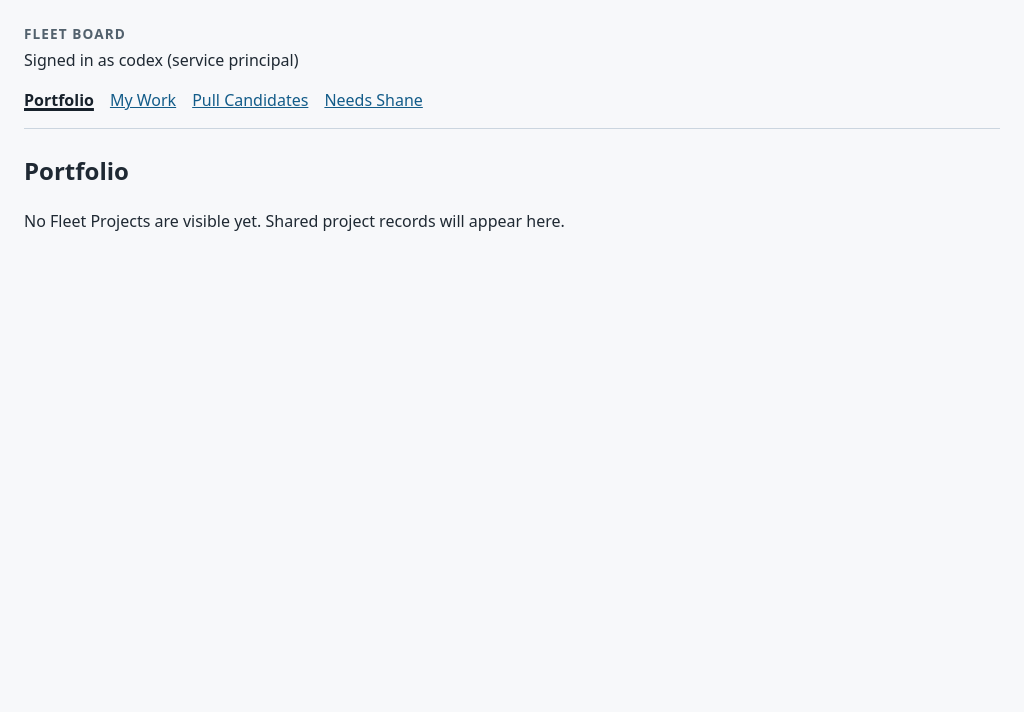
Scenario: Needs Shane Board actions › creates a specific source-linked ask with an explicit resolution condition
The image size is (1024, 712).
Check: the text "Signed in as codex (service principal)" is shown, box [24,49,298,71]
Click the link "Needs Shane".
click(374, 100)  # box [324,88,423,112]
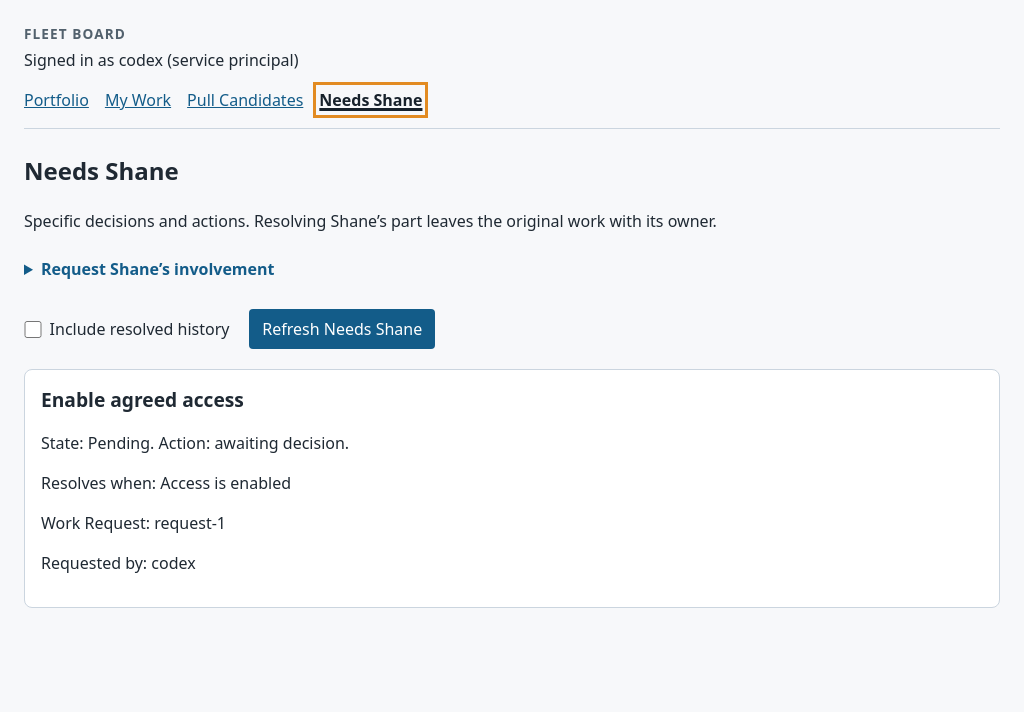
Click the heading "Request Shane’s involvement".
click(158, 269)  # box [41,258,274,280]
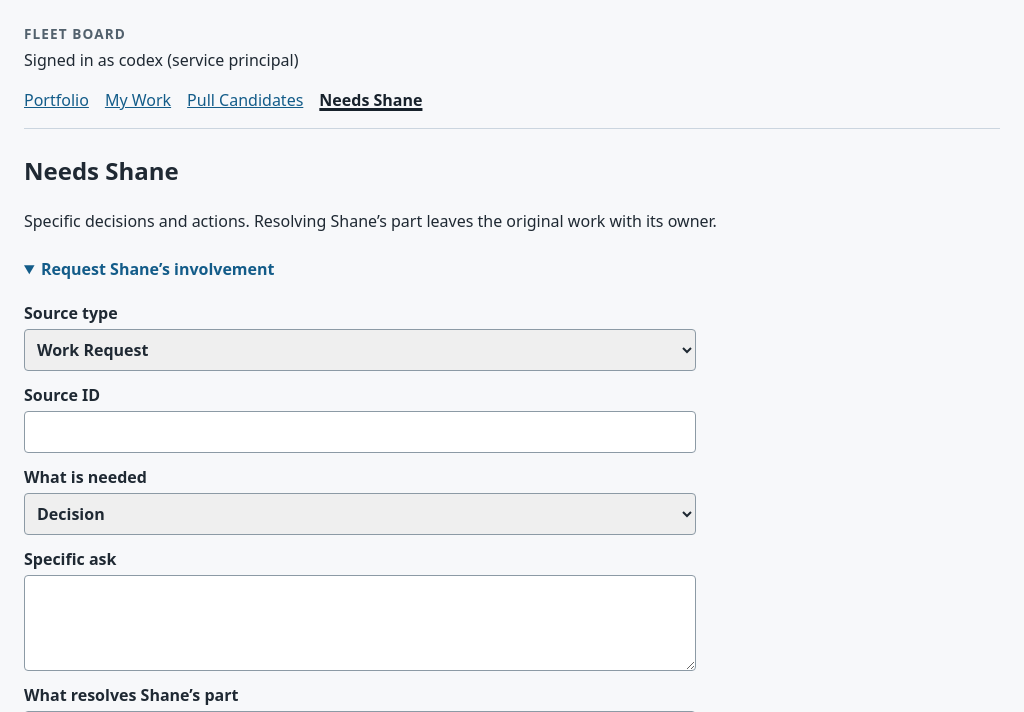
Type "standalone-request" into the field labelled "Source ID".
click(360, 432); type("standalone-request")  # box [24,411,696,453]
Select "Action" in the dropdown labelled "What is needed" at (360, 514), box [24,493,696,535]
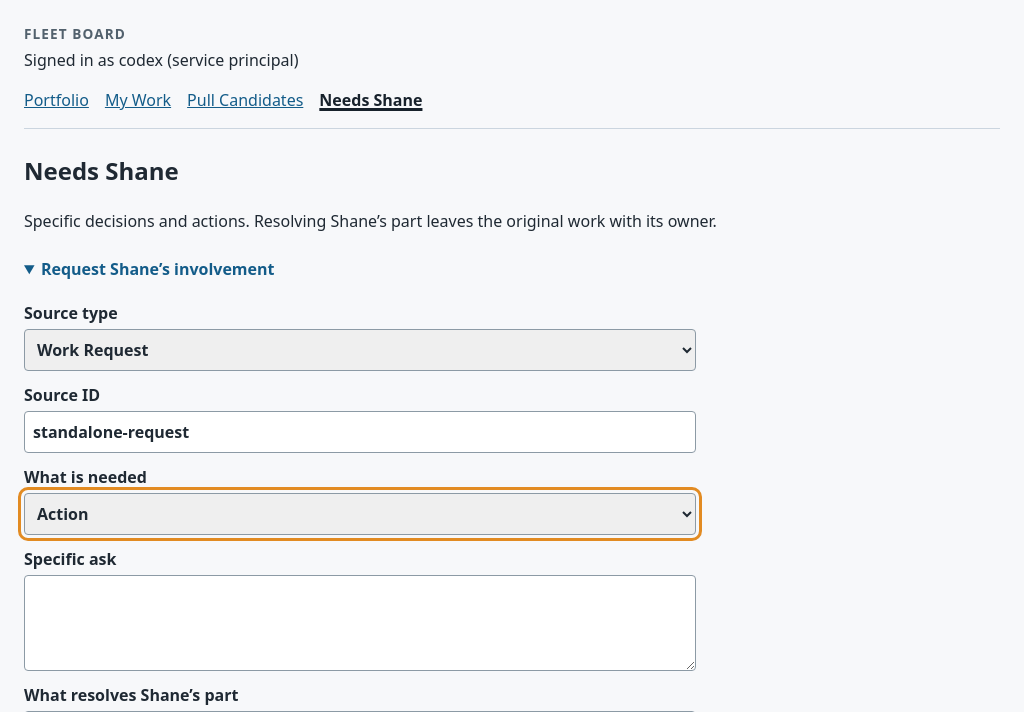
Type "Enable the approved route" into the text box labelled "Specific ask".
click(360, 623); type("Enable the approved route")  # box [24,575,696,671]
(page scrolled)
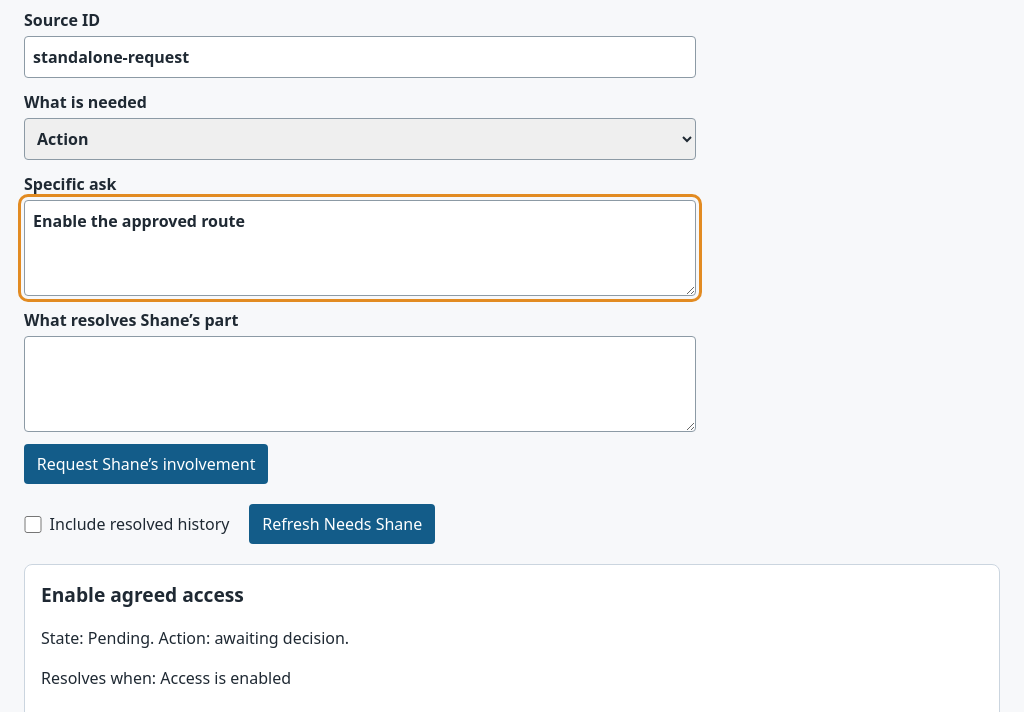
Type "Route is enabled" into the text box labelled "What resolves Shane’s part".
click(360, 384); type("Route is enabled")  # box [24,336,696,432]
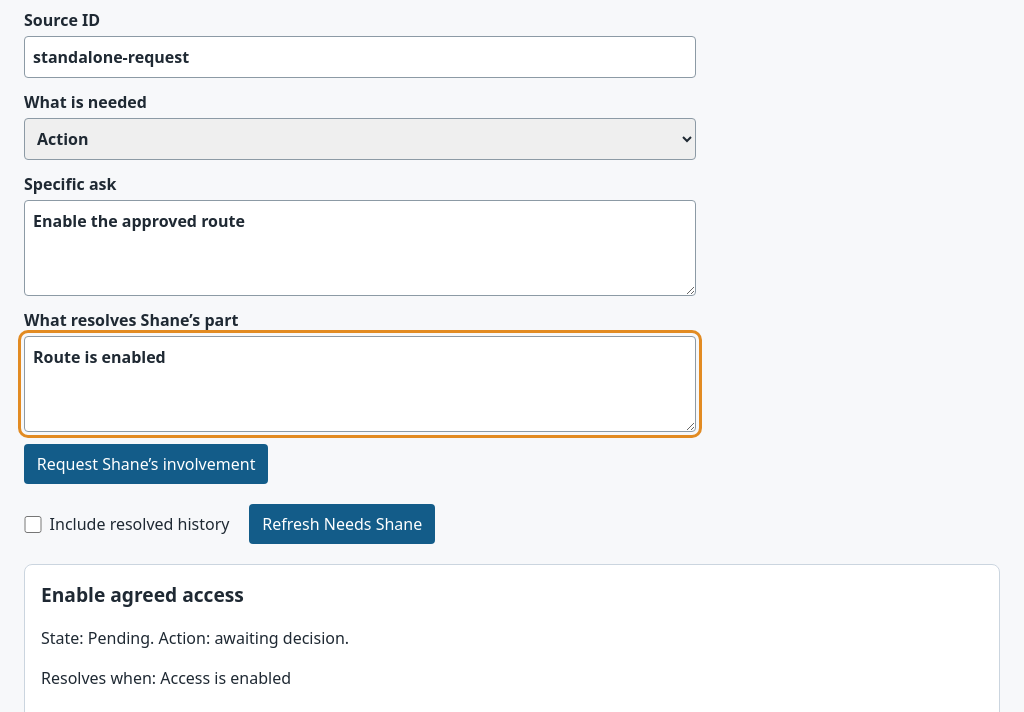
Click the button "Request Shane’s involvement".
click(146, 464)  # box [24,444,268,484]
(page scrolled)
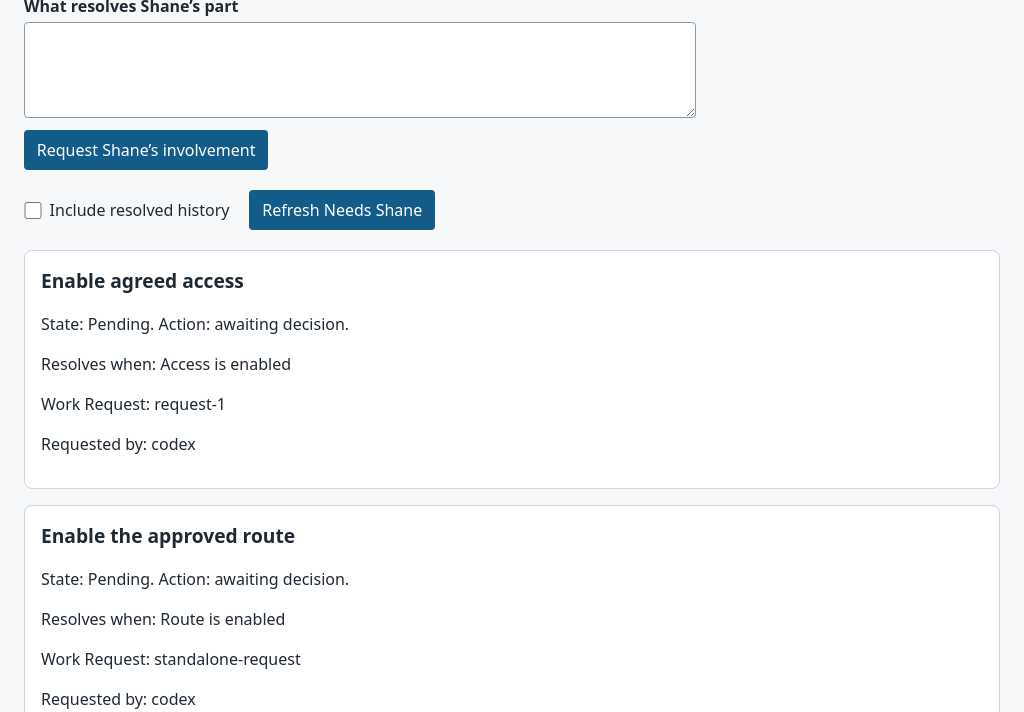
Check: the heading "Enable the approved route" is shown, box [41,522,295,549]
